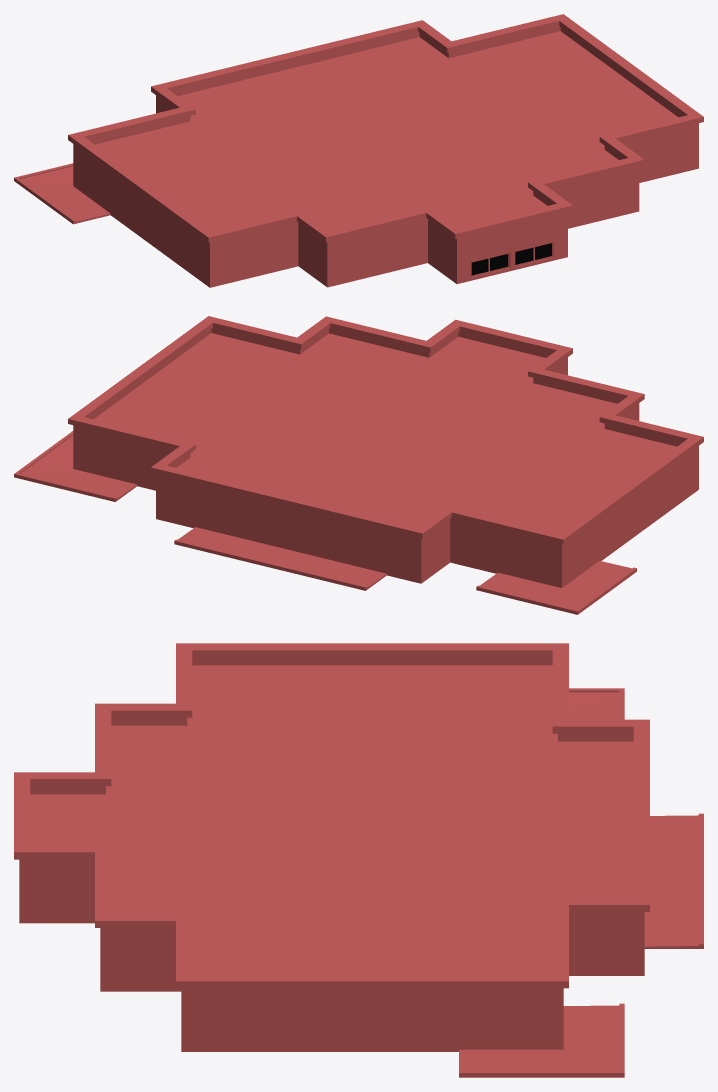
File: SM_house_section_1.fbx
3 views of the same model, one above another, from view 1: azimuth 30°, elevation 25°; view 2: azimuth 150°, elevation 25°; view 3: azimuth 270°, elevation 25° (orthographic). The views are drawn at different scales.
Parts seen in each view (by area): view 1: Boole_4; view 2: Boole_4; view 3: Boole_4.
Boxes of the visible parts, x1,y1,x2,y2 form: Boole_4: (14,14,703,287); Boole_4: (14,316,703,614); Boole_4: (14,643,703,1077).
Bounding box in the file's own units: 3125 × 277 × 2369.
